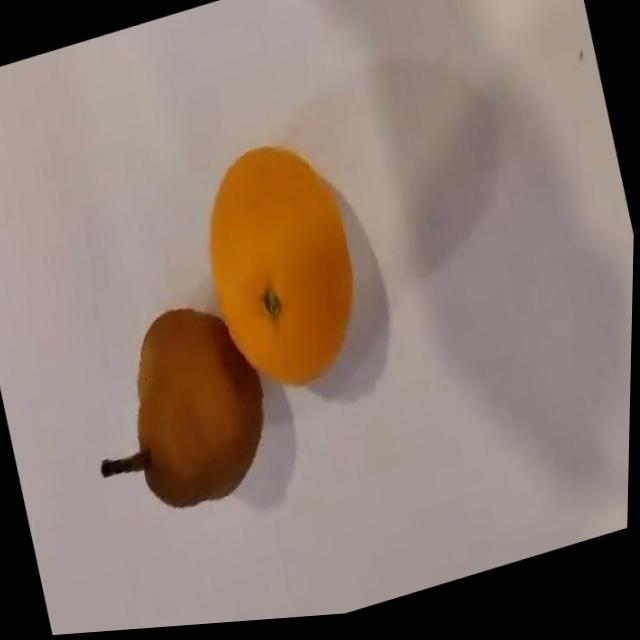Orange: (184, 127, 380, 412)
